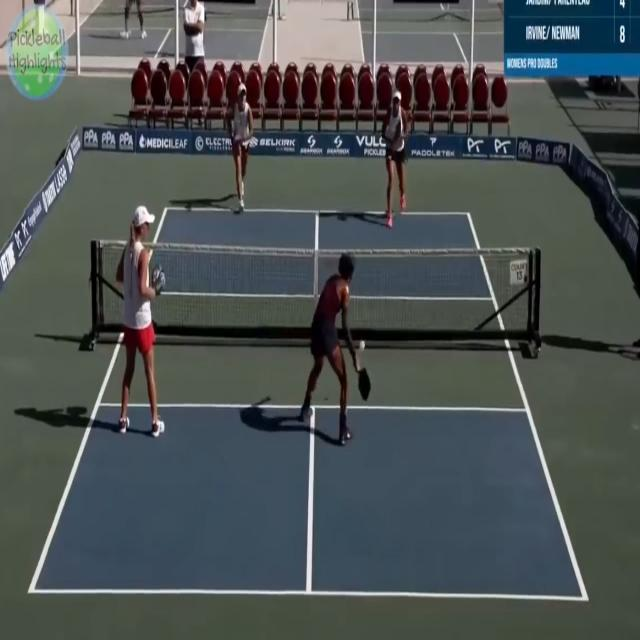Court: (32, 196, 588, 603)
